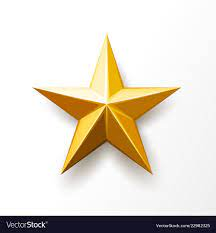star: (32, 29, 183, 177)
